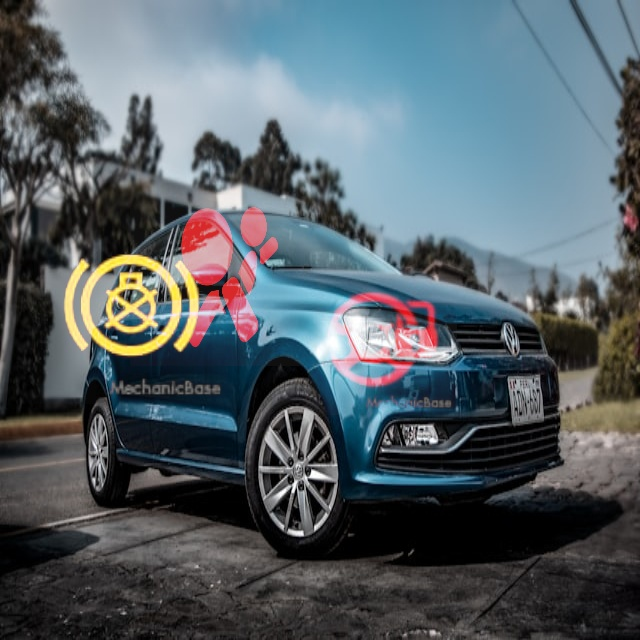symbol: (34, 210, 228, 404), (130, 179, 317, 366), (308, 266, 457, 415)
